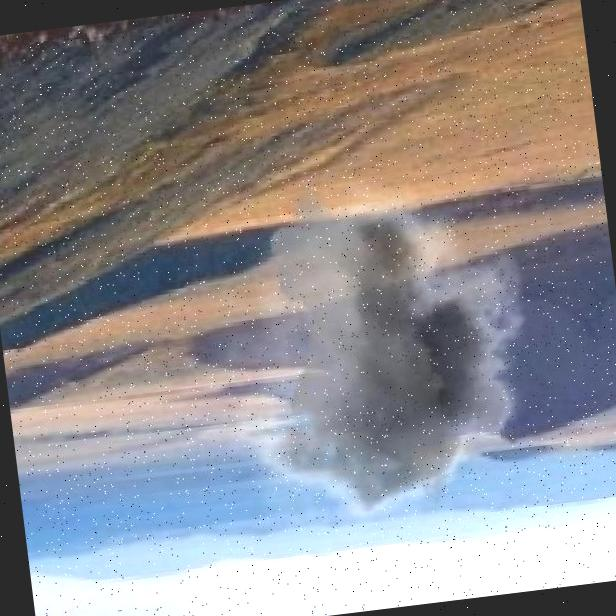smoke: (223, 172, 517, 532)
